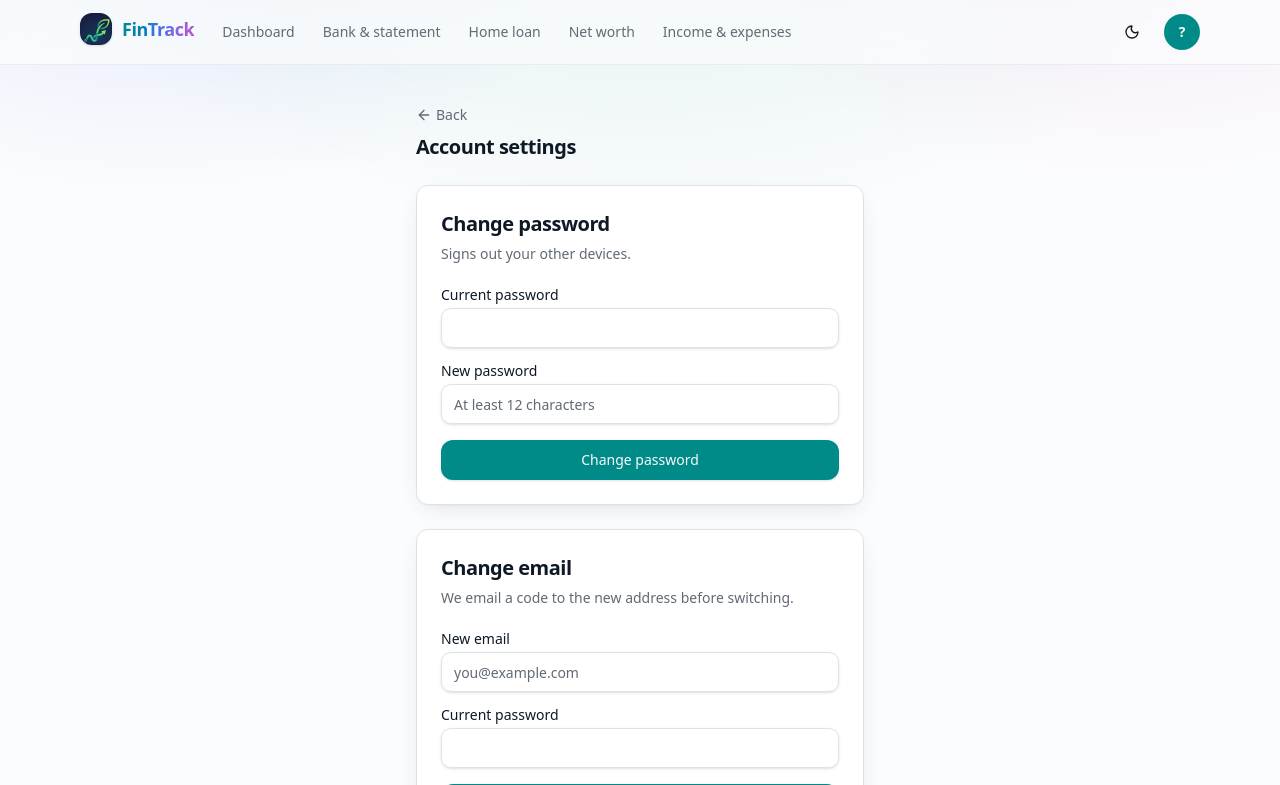
Scenario: SettingsPage — change email › "use a different address" returns to the request step
Type "new@example.com" into the field labelled "New email" at (640, 672), box [441,652,839,692]
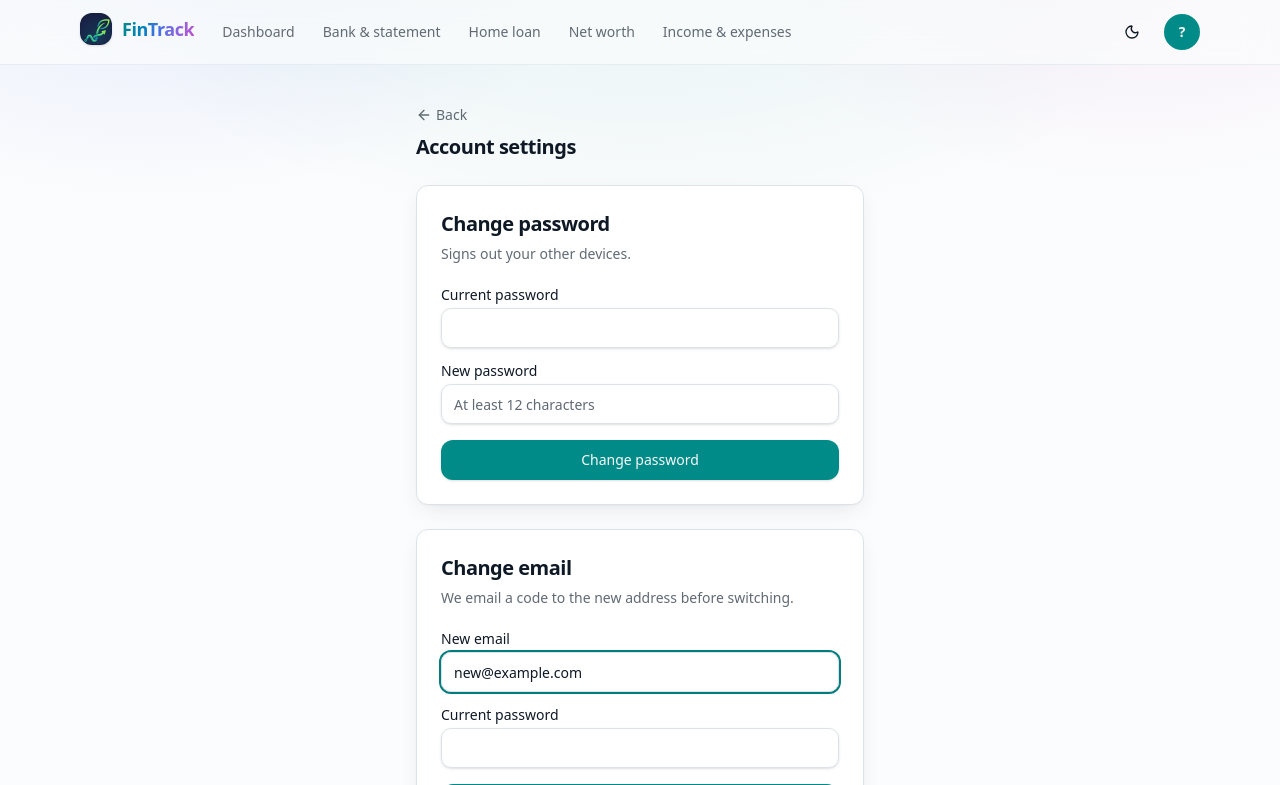
Type "correct horse battery staple" into the password field labelled "Current password" below "New email" at (640, 748), box [441,728,839,768]
(page scrolled)
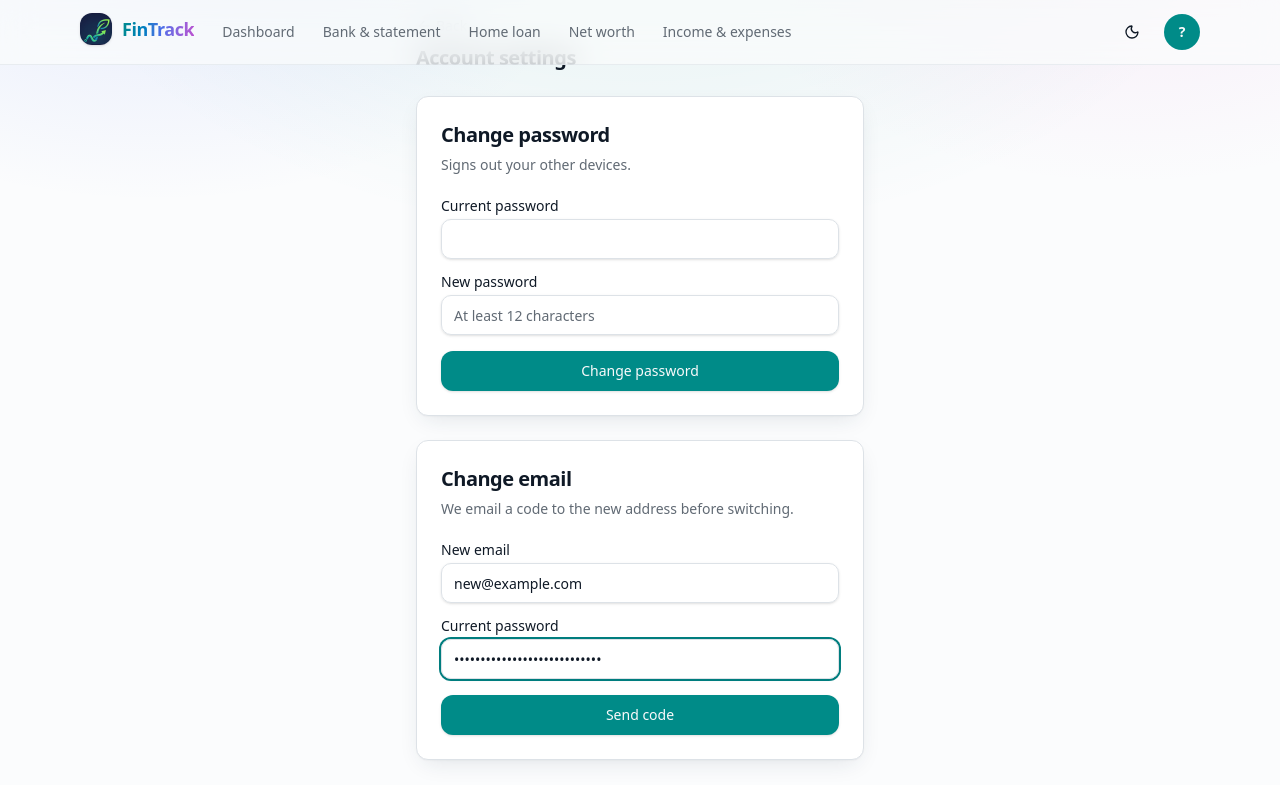
Click the button "Send code" at (640, 715), box [441,695,839,735]
(page scrolled)
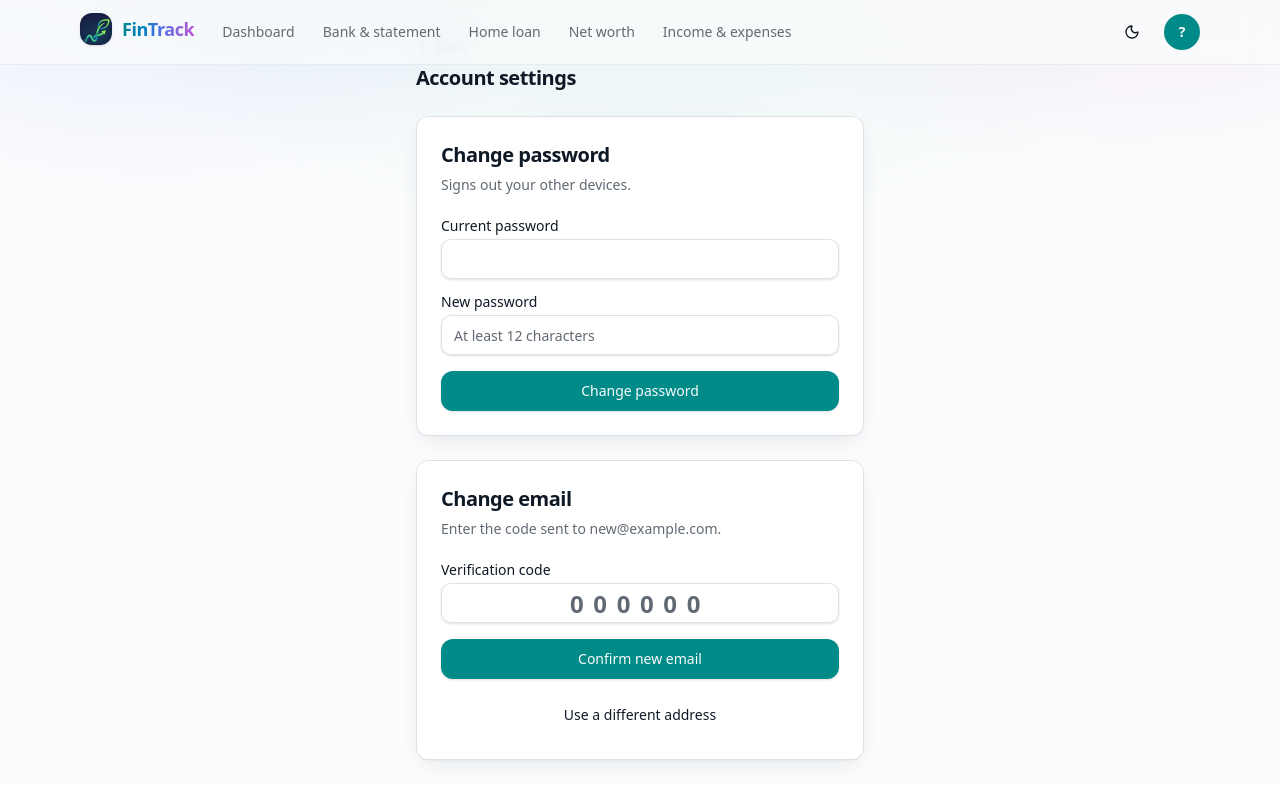
Click the button "Use a different address" at (640, 715), box [441,695,839,735]
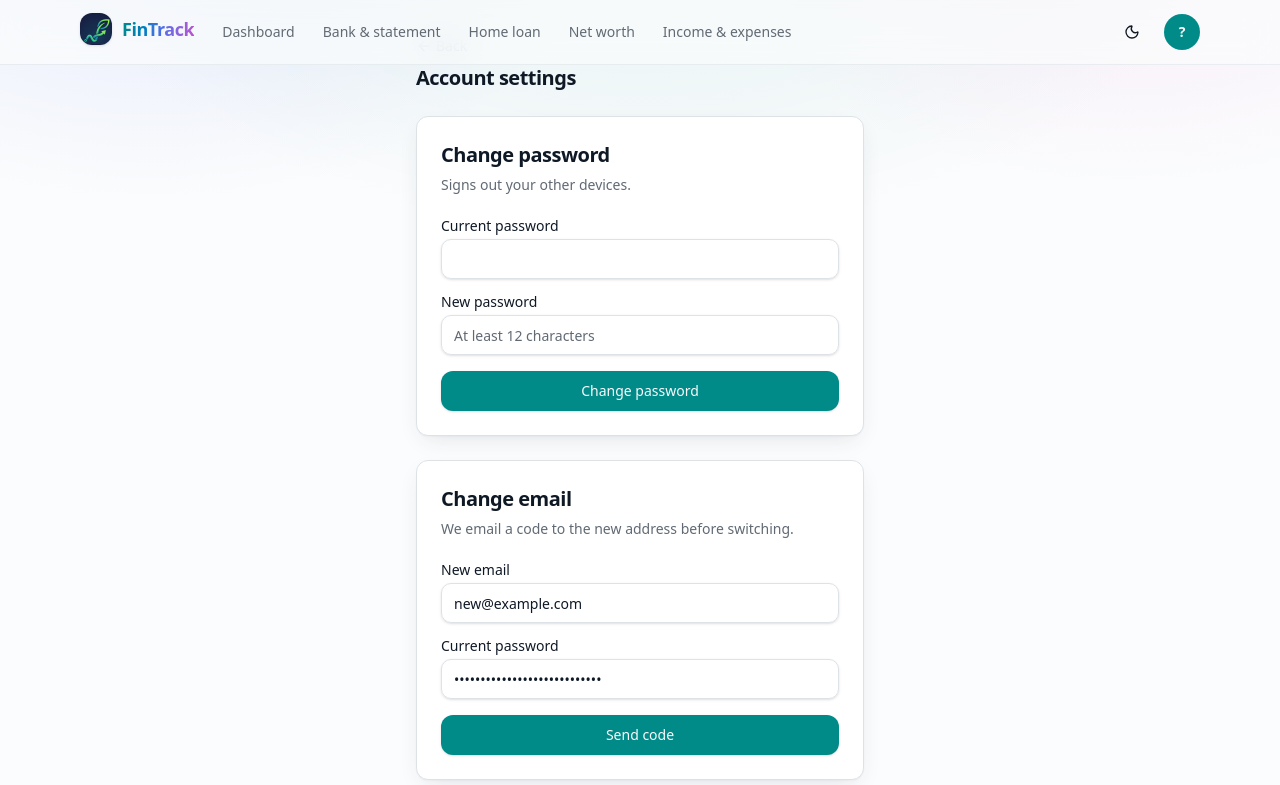
Expected: the field labelled "New email" is shown, [441,583,839,623]
Expected: the label labelled "Verification code" is gone
